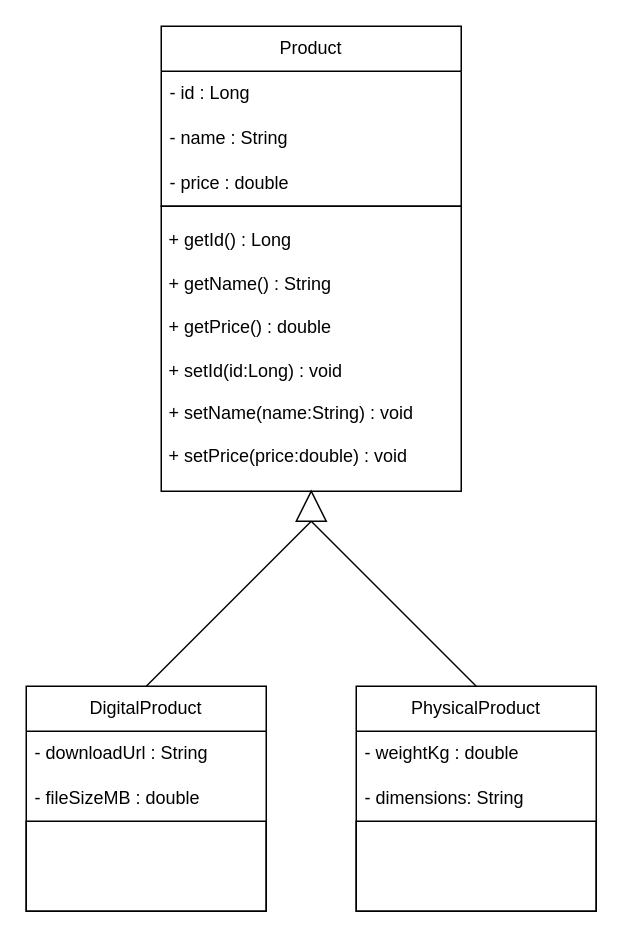
This 623x938 diagram has some shape labels left out. Each missing label, with the centre of its shape:
"+ getDownloadUrl() : void + getFileSizeMB() : void" belongs at point (145, 865).
"+ getWeightKg() : void + getDimensions() : void" belongs at point (475, 865).
